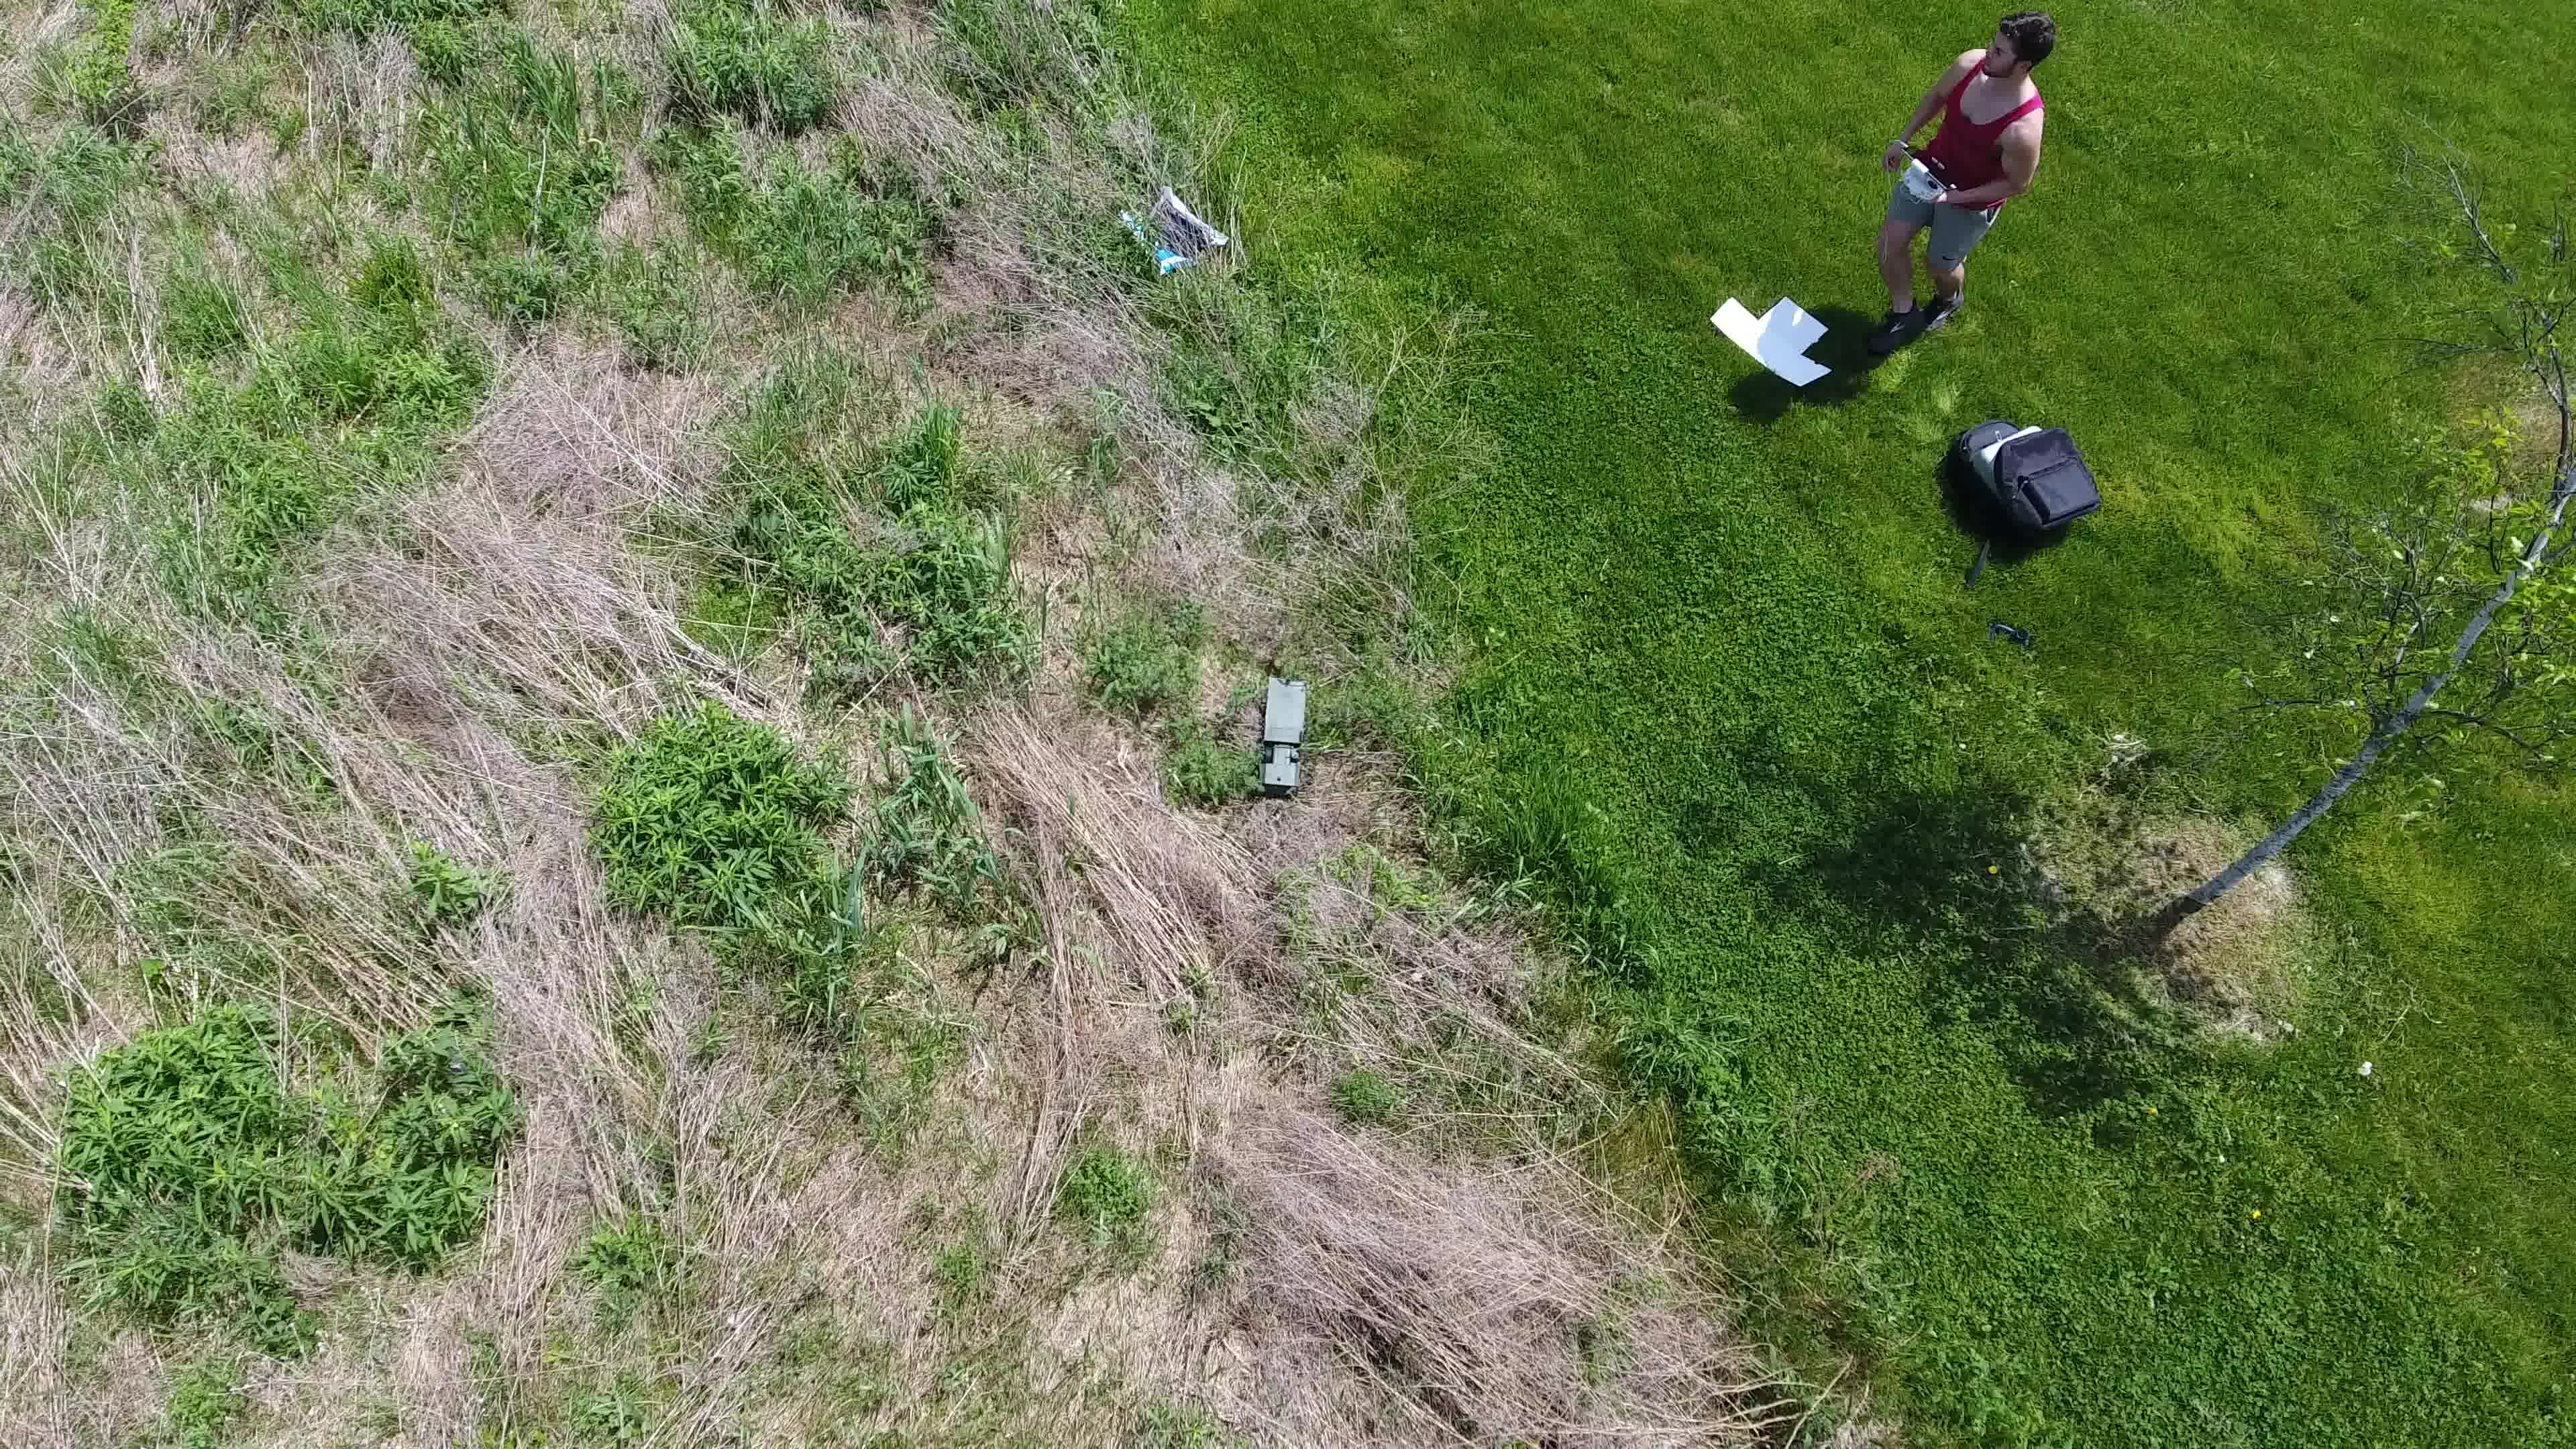transporter9: (1256, 674, 1311, 793)
